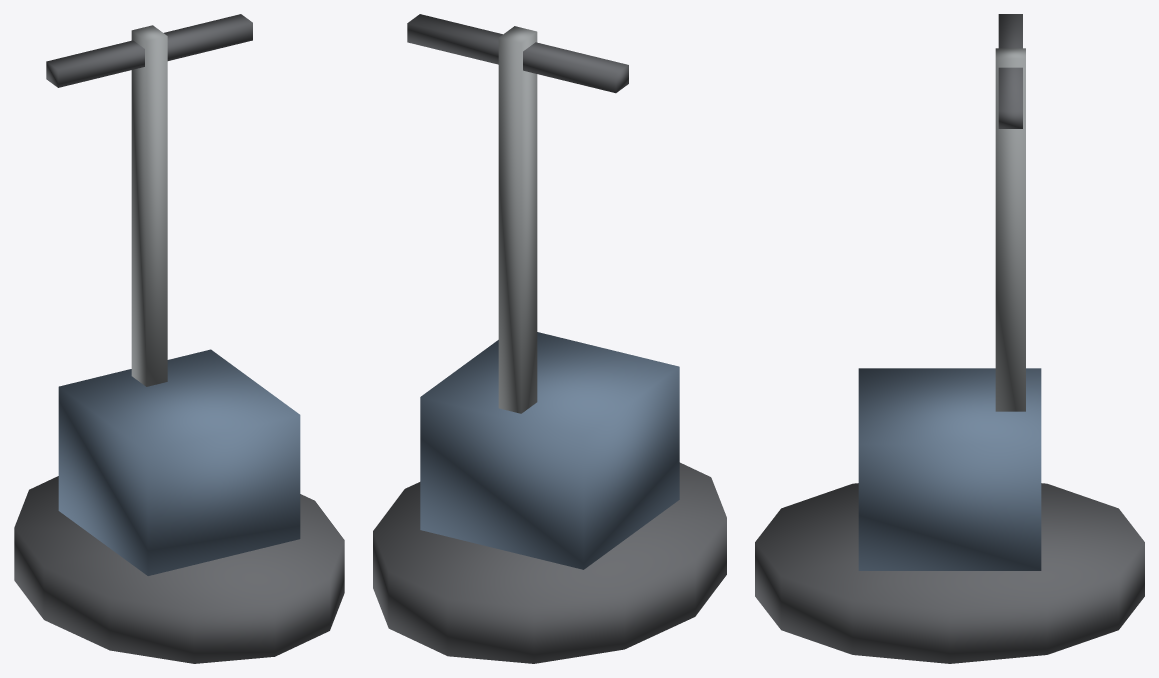
Rendered from floor_buffer__deep.glb.
The picture shows the model from 3 angles, left to right: view 1: azimuth 30°, elevation 25°; view 2: azimuth 150°, elevation 25°; view 3: azimuth 270°, elevation 25°; orthographic projection. The views are drawn at different scales.
Visible parts, largest first — view 1: world; view 2: world; view 3: world.
Boxes of the visible parts, bbox=[...] form: world: bbox=[14, 14, 344, 663]; world: bbox=[373, 14, 726, 663]; world: bbox=[755, 14, 1144, 663].
Bounding box in the file's own units: 0.64 × 1.2 × 0.7808.
